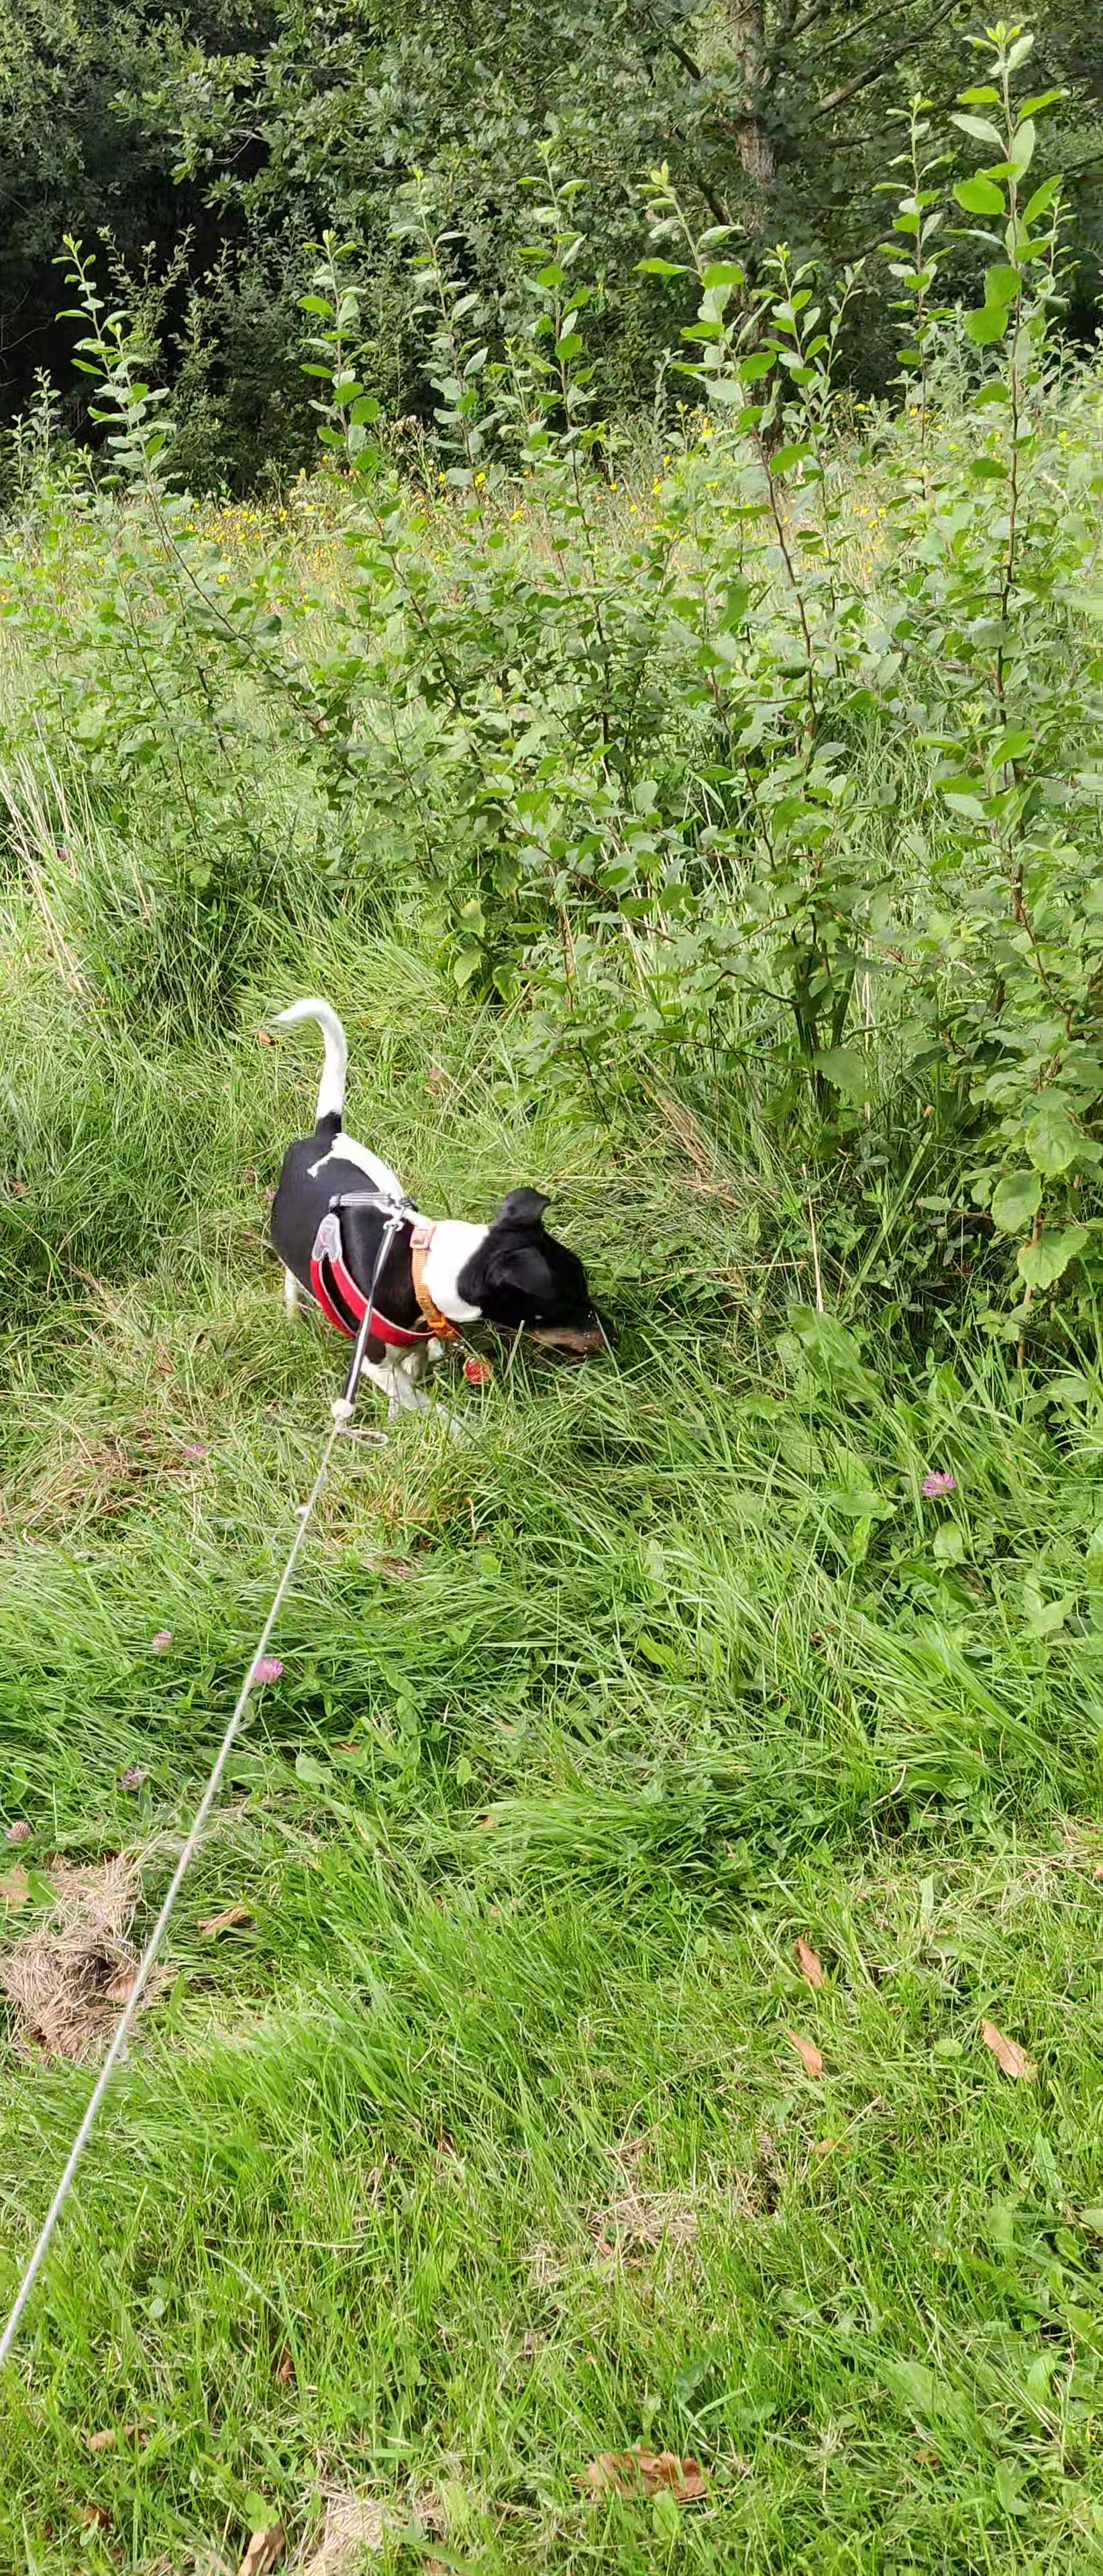Dog: (258, 992, 623, 1418)
